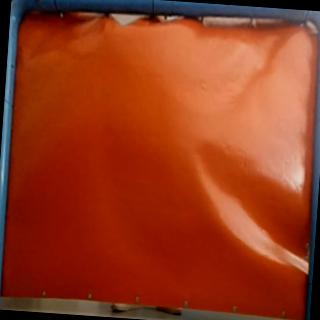Hit-hRxx: (98, 19, 114, 33)
